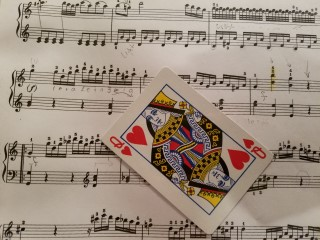QueenOfHearts: (101, 67, 274, 235)
